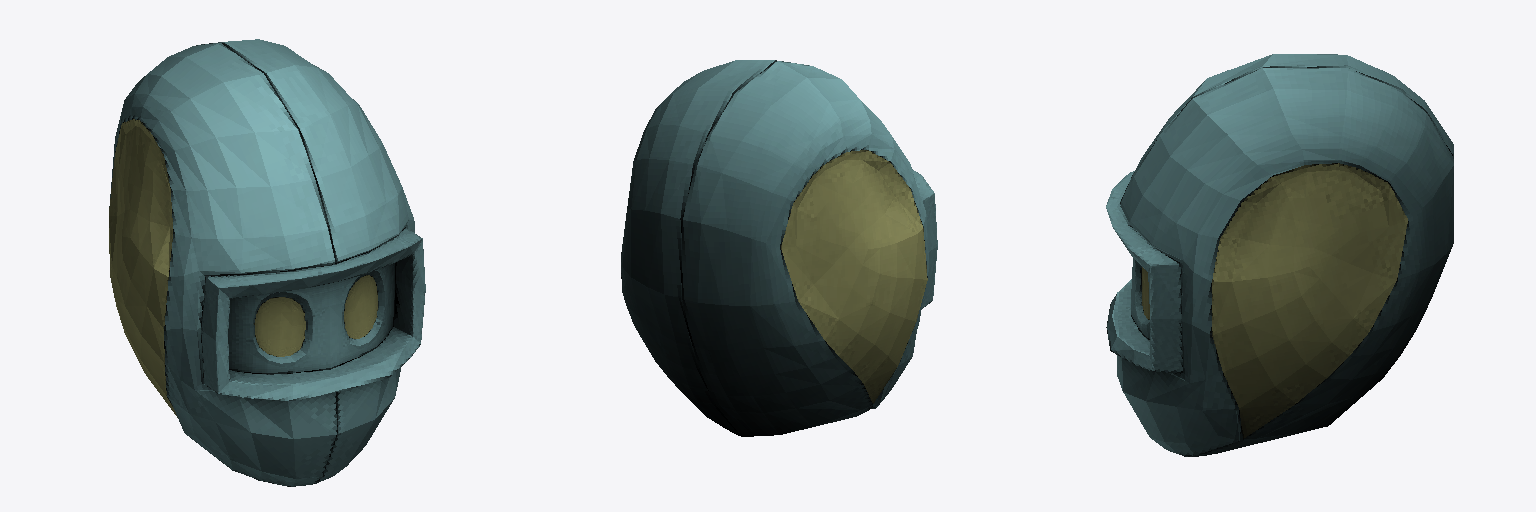
3 renders of one model, left to right at view 1: azimuth 30°, elevation 25°; view 2: azimuth 150°, elevation 25°; view 3: azimuth 270°, elevation 25°, orthographic.
Parts seen in each view (by area): view 1: just_head.obj; view 2: just_head.obj; view 3: just_head.obj.
Boxes of the visible parts, x1,y1,x2,y2 form: just_head.obj: [109, 39, 425, 486]; just_head.obj: [621, 60, 937, 436]; just_head.obj: [1106, 54, 1453, 456].
Bounding box in the file's own units: 0.1908 × 0.2693 × 0.2249.
1 materials, 1 textured.